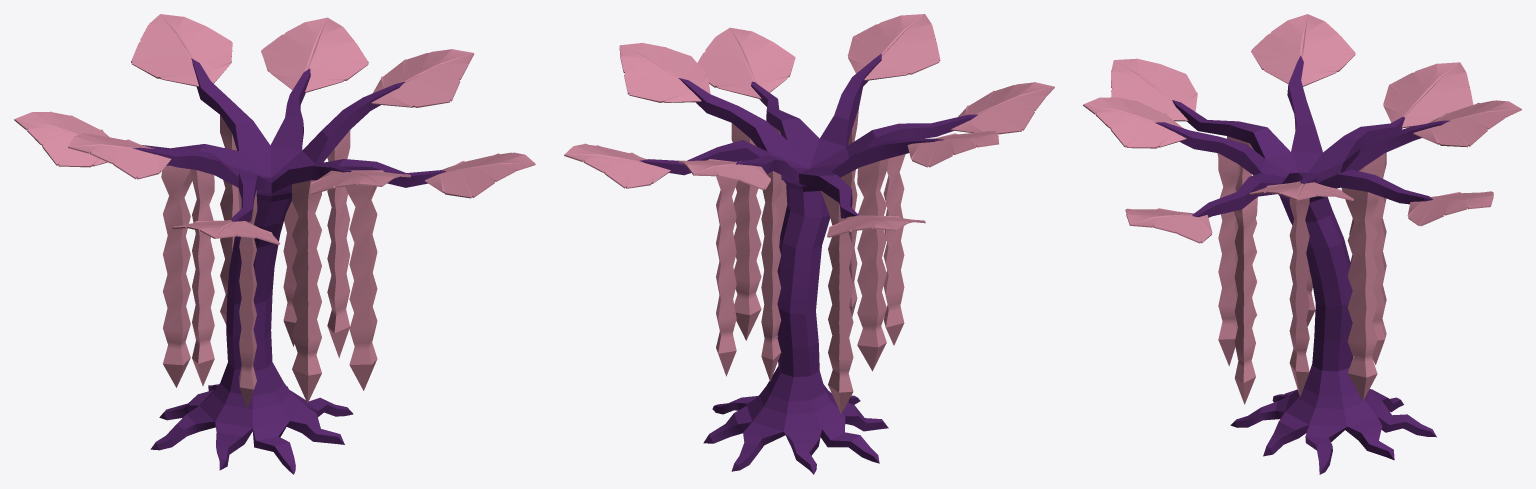
File: _CODIR_04_Tree_01.fbx
3 views of the same model, side by side, from view 1: azimuth 30°, elevation 25°; view 2: azimuth 150°, elevation 25°; view 3: azimuth 270°, elevation 25° (orthographic). The views are drawn at different scales.
Parts seen in each view (by area): view 1: polySurface129, polySurface122, polySurface124, polySurface127, polySurface126, polySurface131, polySurface130, polySurface123, polySurface125; view 2: polySurface129, polySurface131, polySurface123, polySurface127, polySurface125, polySurface122, polySurface130, polySurface124, polySurface126; view 3: polySurface129, polySurface130, polySurface126, polySurface125, polySurface123, polySurface124, polySurface131, polySurface122, polySurface127.
Boxes of the visible parts, left/top/right/bottom form: polySurface129: left=133, top=58, right=446, bottom=474; polySurface122: left=261, top=17, right=368, bottom=92; polySurface124: left=131, top=14, right=232, bottom=86; polySurface127: left=371, top=49, right=474, bottom=107; polySurface126: left=14, top=111, right=109, bottom=167; polySurface131: left=425, top=152, right=535, bottom=198; polySurface130: left=68, top=133, right=171, bottom=179; polySurface123: left=309, top=170, right=410, bottom=194; polySurface125: left=172, top=220, right=280, bottom=244; polySurface129: left=640, top=53, right=977, bottom=474; polySurface131: left=697, top=27, right=795, bottom=99; polySurface123: left=847, top=14, right=940, bottom=80; polySurface127: left=619, top=42, right=710, bottom=102; polySurface125: left=951, top=82, right=1054, bottom=134; polySurface122: left=564, top=143, right=670, bottom=188; polySurface130: left=907, top=130, right=999, bottom=167; polySurface124: left=678, top=159, right=770, bottom=190; polySurface126: left=827, top=215, right=925, bottom=237; polySurface129: left=1155, top=55, right=1450, bottom=474; polySurface130: left=1251, top=14, right=1355, bottom=86; polySurface126: left=1383, top=62, right=1473, bottom=128; polySurface125: left=1111, top=58, right=1197, bottom=121; polySurface123: left=1083, top=97, right=1186, bottom=148; polySurface124: left=1413, top=100, right=1521, bottom=147; polySurface131: left=1125, top=208, right=1212, bottom=243; polySurface122: left=1407, top=191, right=1493, bottom=226; polySurface127: left=1249, top=181, right=1353, bottom=200.
Size of the model in its own units: 48.07 by 39.4 by 48.07.
